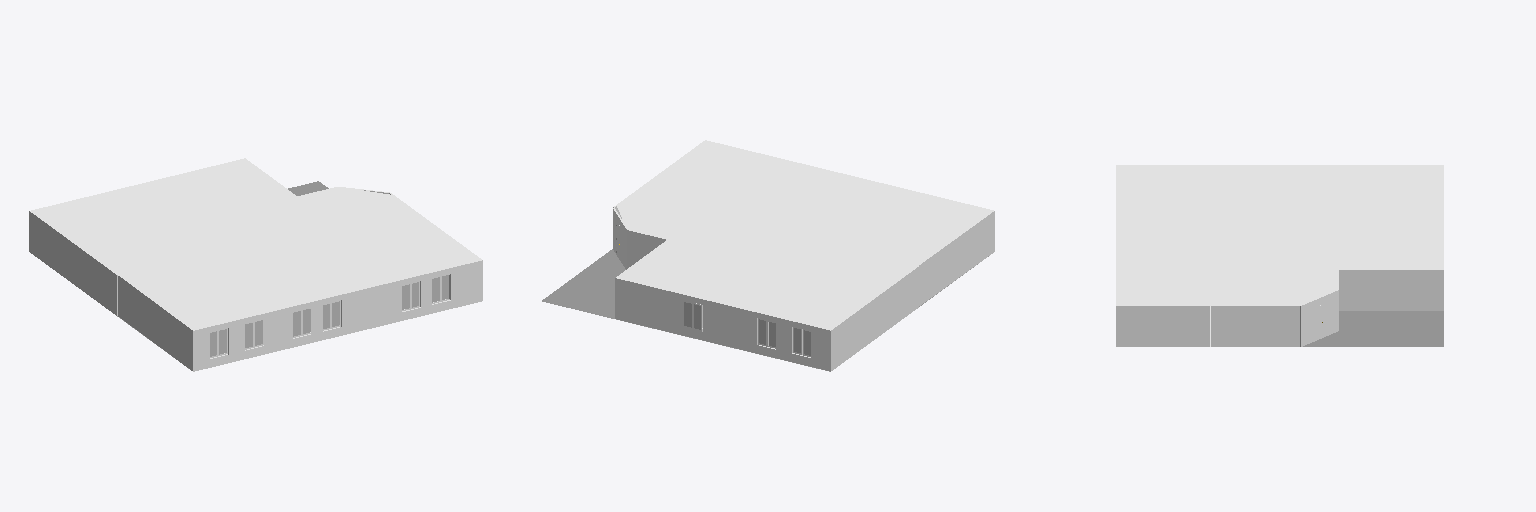
The model's file is Rorstrandsgatan.obj.
3 renders of one model, left to right at view 1: azimuth 30°, elevation 25°; view 2: azimuth 150°, elevation 25°; view 3: azimuth 270°, elevation 25°, orthographic.
Visible parts, largest first — view 1: room_21_123, wall_11_65, wall_7_41, wall_10_59, wall_18_107, wall_12_70; view 2: room_21_123, wall_19_112, wall_10_59, wall_17_101, ground_1, wall_18_107, wall_12_70, wall_5_29; view 3: room_21_123, wall_20_118, ground_1, wall_8_47, wall_1_4, wall_4_23.
Boxes of the visible parts, x1=… form: room_21_123: x1=32, y1=158, x2=481, y2=329; wall_11_65: x1=193, y1=290, x2=359, y2=371; wall_7_41: x1=359, y1=260, x2=482, y2=330; wall_10_59: x1=118, y1=276, x2=192, y2=370; wall_18_107: x1=29, y1=211, x2=81, y2=289; wall_12_70: x1=81, y1=250, x2=117, y2=315; room_21_123: x1=617, y1=140, x2=991, y2=329; wall_19_112: x1=615, y1=278, x2=728, y2=345; wall_10_59: x1=919, y1=211, x2=994, y2=305; wall_17_101: x1=728, y1=306, x2=830, y2=371; ground_1: x1=542, y1=249, x2=988, y2=371; wall_18_107: x1=831, y1=292, x2=883, y2=370; wall_12_70: x1=883, y1=267, x2=918, y2=332; wall_5_29: x1=627, y1=230, x2=665, y2=268; room_21_123: x1=1116, y1=166, x2=1442, y2=305; wall_20_118: x1=1339, y1=270, x2=1443, y2=310; ground_1: x1=1303, y1=311, x2=1443, y2=346; wall_8_47: x1=1116, y1=306, x2=1209, y2=346; wall_1_4: x1=1211, y1=306, x2=1299, y2=346; wall_4_23: x1=1300, y1=290, x2=1338, y2=346.
Size of the model in its own units: 1845 by 250 by 1811.